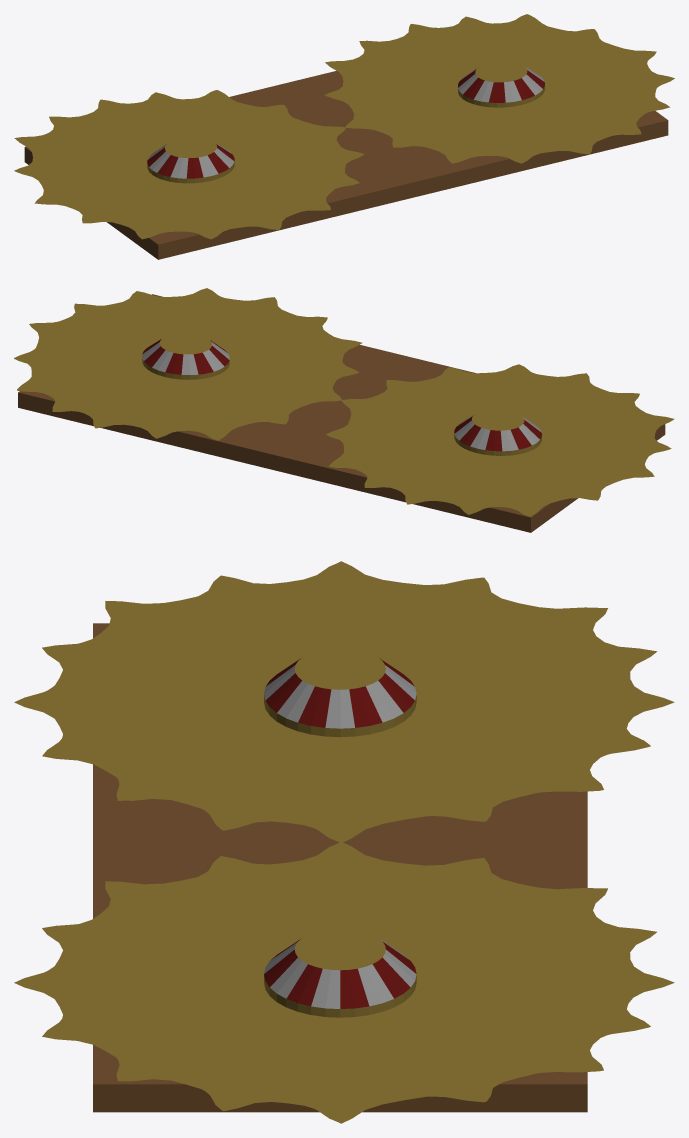
Rendered from gear_box.fbx.
3 views of the same model, one above another, from view 1: azimuth 30°, elevation 25°; view 2: azimuth 150°, elevation 25°; view 3: azimuth 270°, elevation 25° (orthographic). The views are drawn at different scales.
Visible parts, largest first — view 1: Cylinder_001, Cube; view 2: Cylinder_001, Cube; view 3: Cylinder_001, Cube.
Part boxes in pixels (box(x1,y1,x2,y2)): Cylinder_001: box(14, 14, 674, 239); Cube: box(24, 71, 668, 259); Cylinder_001: box(14, 288, 674, 516); Cube: box(18, 294, 665, 532); Cylinder_001: box(14, 561, 674, 1123); Cube: box(93, 623, 587, 1112).
Bounding box in the file's own units: 5.38 × 0.3235 × 2.67.
